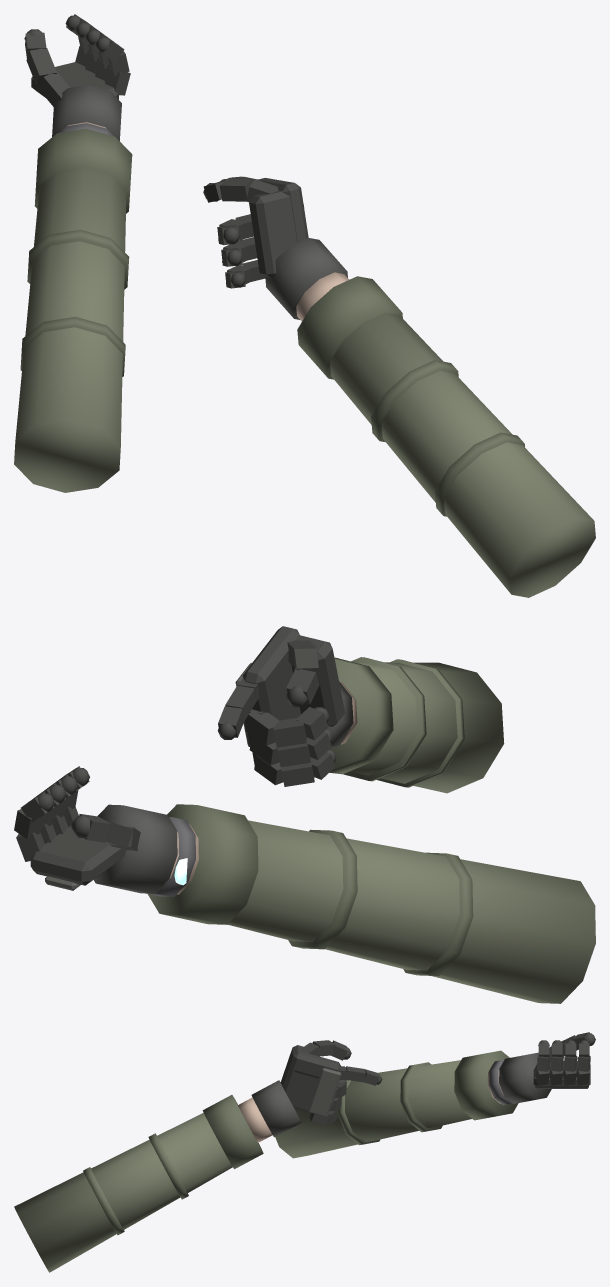
Rendered from hands_rifle.glb.
3 renders of one model, top to bottom at view 1: azimuth 30°, elevation 25°; view 2: azimuth 150°, elevation 25°; view 3: azimuth 270°, elevation 25°, orthographic. The views are drawn at different scales.
Visible parts, largest first — view 1: Hands_rifle, HandL; view 2: HandL, Hands_rifle; view 3: Hands_rifle, HandL.
Part boxes in pixels (box(x1,y1,x2,y2)): Hands_rifle: box(203, 176, 595, 597); HandL: box(14, 14, 132, 492); HandL: box(14, 766, 595, 1003); Hands_rifle: box(217, 626, 504, 793); Hands_rifle: box(14, 1040, 382, 1272); HandL: box(275, 1032, 595, 1158).
Bounding box in the file's own units: 0.4433 × 0.3392 × 0.8669.
